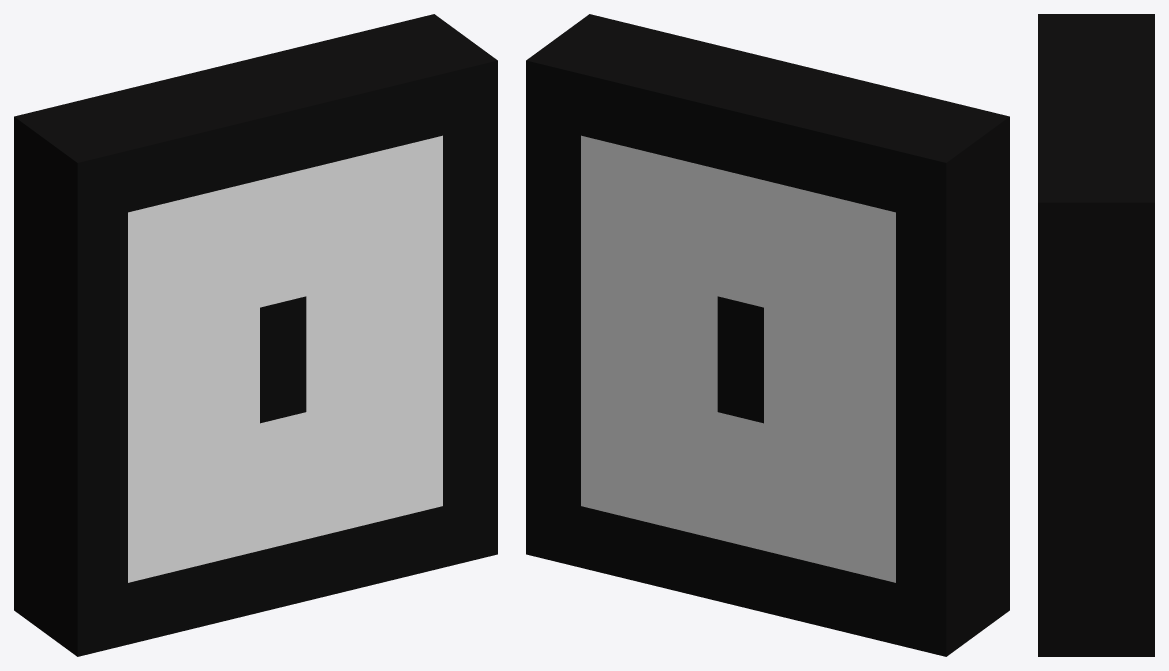
File: Font_Letter_O_01.fbx
The picture shows the model from 3 angles, left to right: view 1: azimuth 30°, elevation 25°; view 2: azimuth 150°, elevation 25°; view 3: azimuth 270°, elevation 25°; orthographic projection. The views are drawn at different scales.
Parts seen in each view (by area): view 1: Font_Letter_O_01; view 2: Font_Letter_O_01; view 3: Font_Letter_O_01.
Part boxes in pixels (box(x1,y1,x2,y2)): Font_Letter_O_01: box(14, 14, 497, 656); Font_Letter_O_01: box(526, 14, 1009, 656); Font_Letter_O_01: box(1038, 14, 1154, 656).
Bounding box in the file's own units: 74.41 × 83.57 × 19.48.
